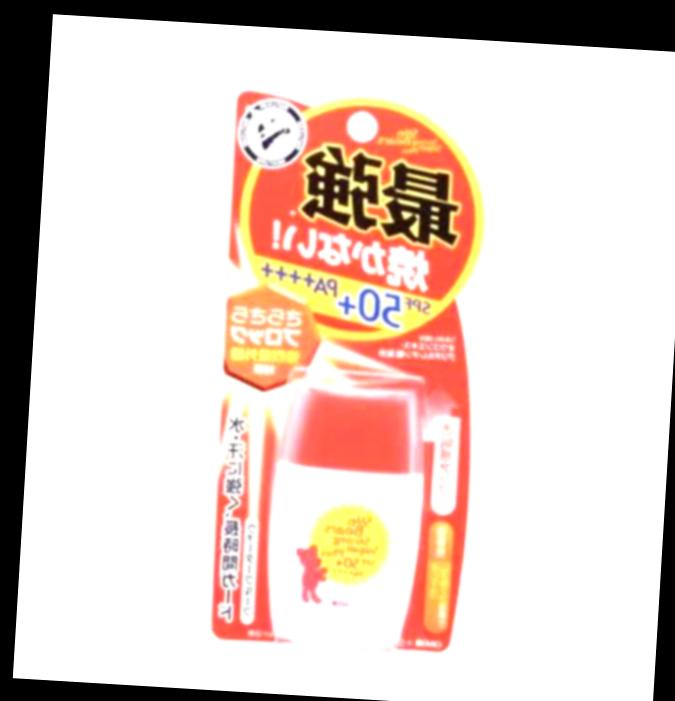cosmetic: (261, 381, 427, 659)
